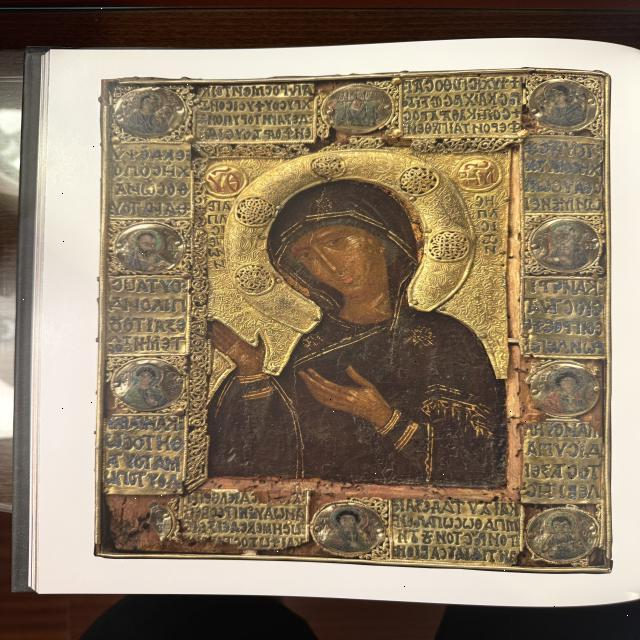aura: (223, 152, 475, 330)
mary: (205, 143, 514, 475)
